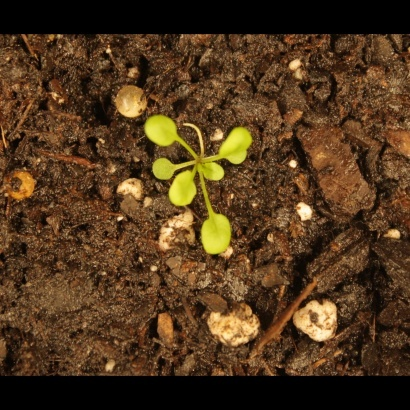leaf: (141, 113, 185, 154), (199, 211, 235, 261), (218, 125, 258, 169), (168, 171, 199, 214), (148, 158, 179, 185), (200, 159, 228, 183)
